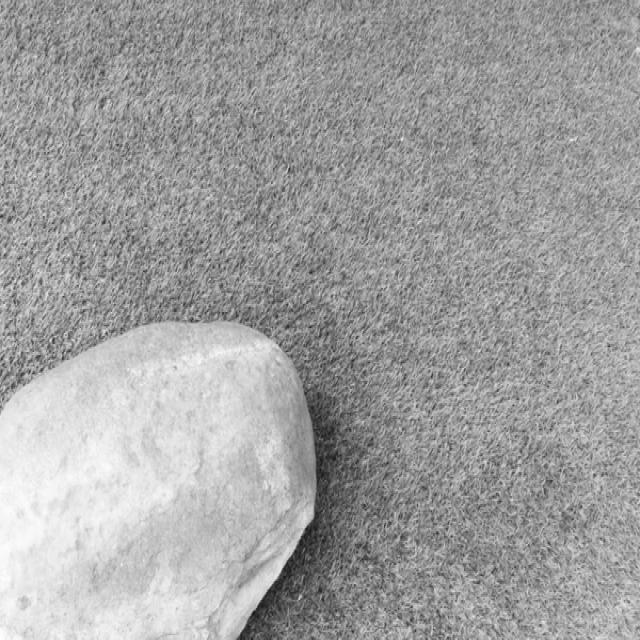Stone: (0, 323, 317, 640)
